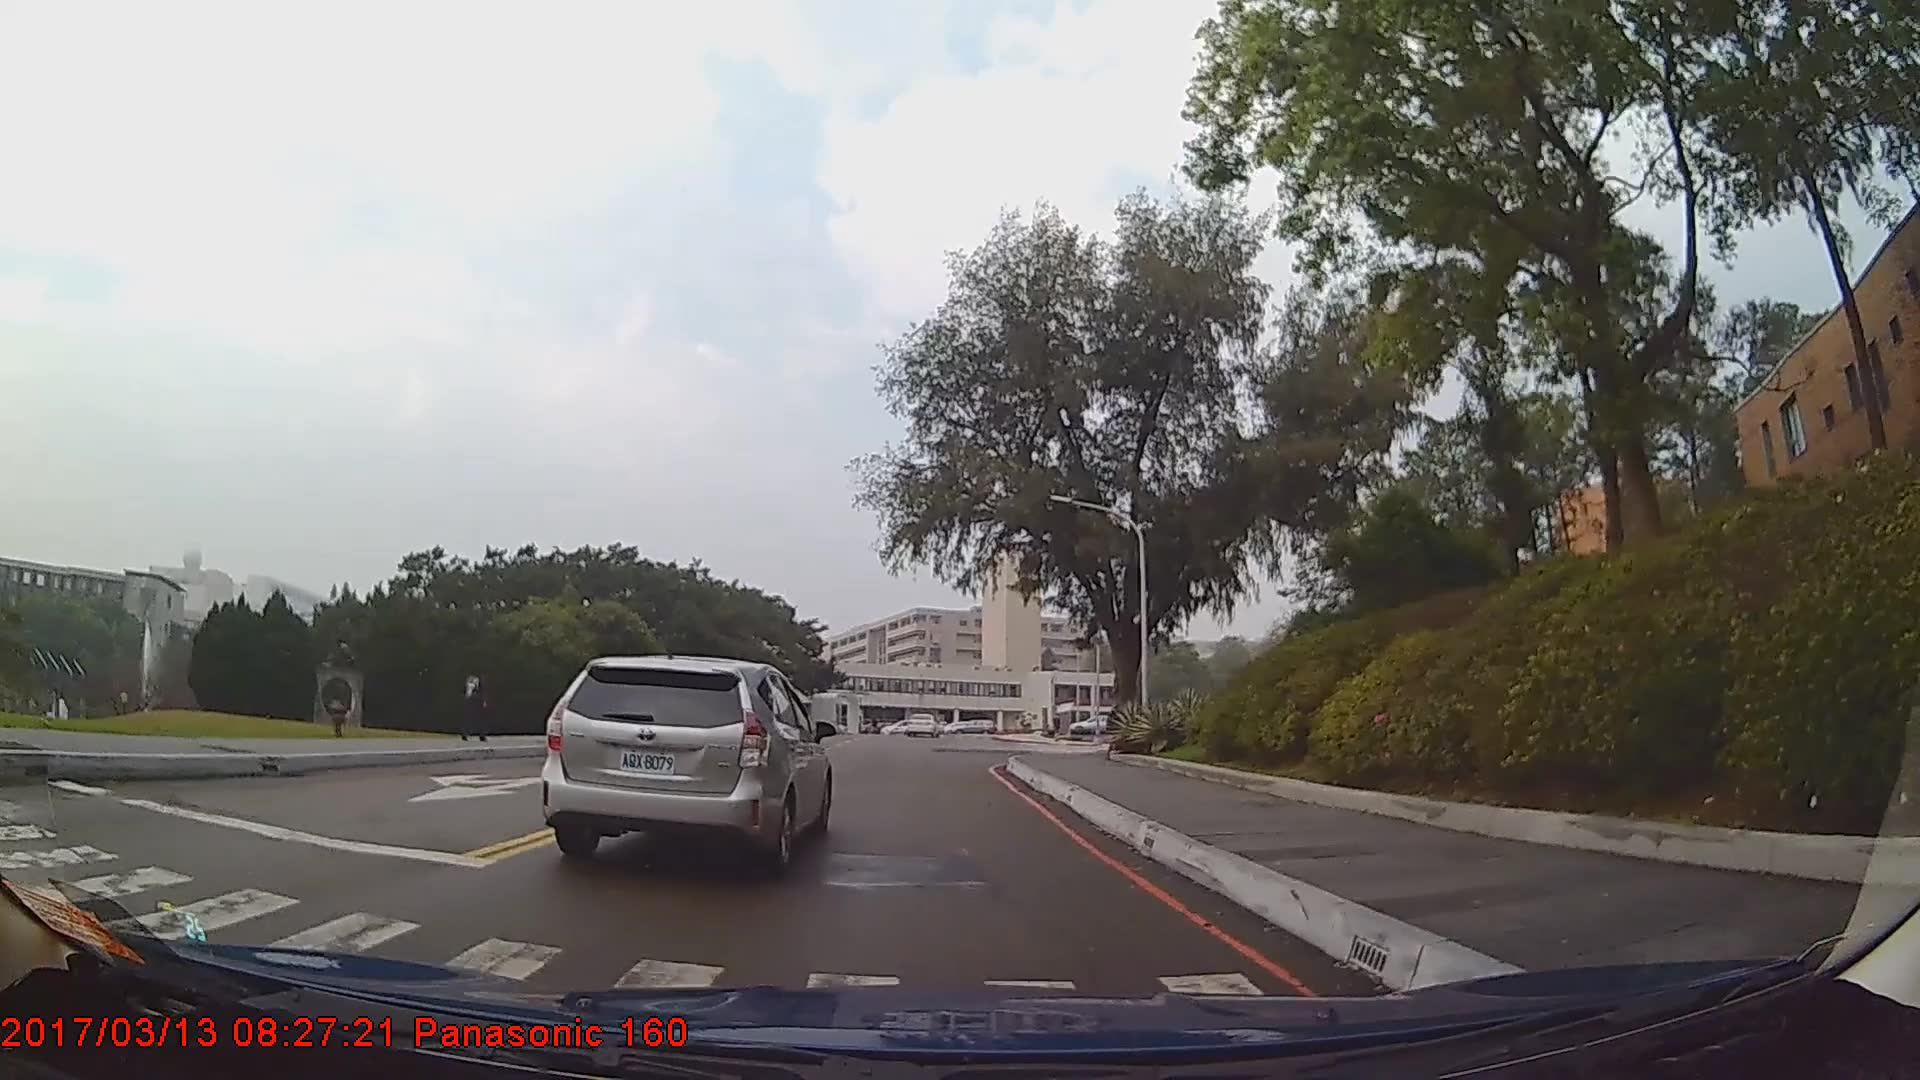pedestrian: (457, 655, 499, 743)
vehicle: (541, 653, 834, 869), (903, 707, 939, 734)
